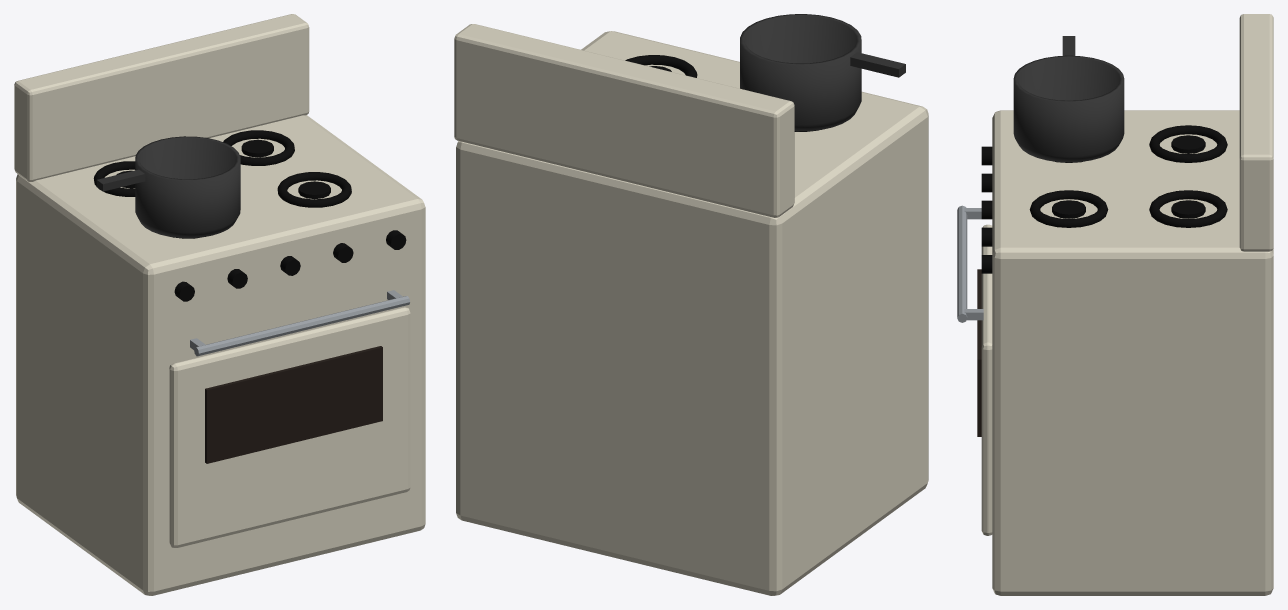
Rendered from stove.glb.
The picture shows the model from 3 angles, left to right: view 1: azimuth 30°, elevation 25°; view 2: azimuth 150°, elevation 25°; view 3: azimuth 270°, elevation 25°; orthographic projection. The views are drawn at different scales.
Parts seen in each view (by area): view 1: stove; view 2: stove; view 3: stove.
Boxes of the visible parts, x1,y1,x2,y2 form: stove: (14,14,425,595); stove: (454,14,928,595); stove: (957,14,1273,595).
Size of the model in its own units: 0.83 by 1.14 by 0.742.
